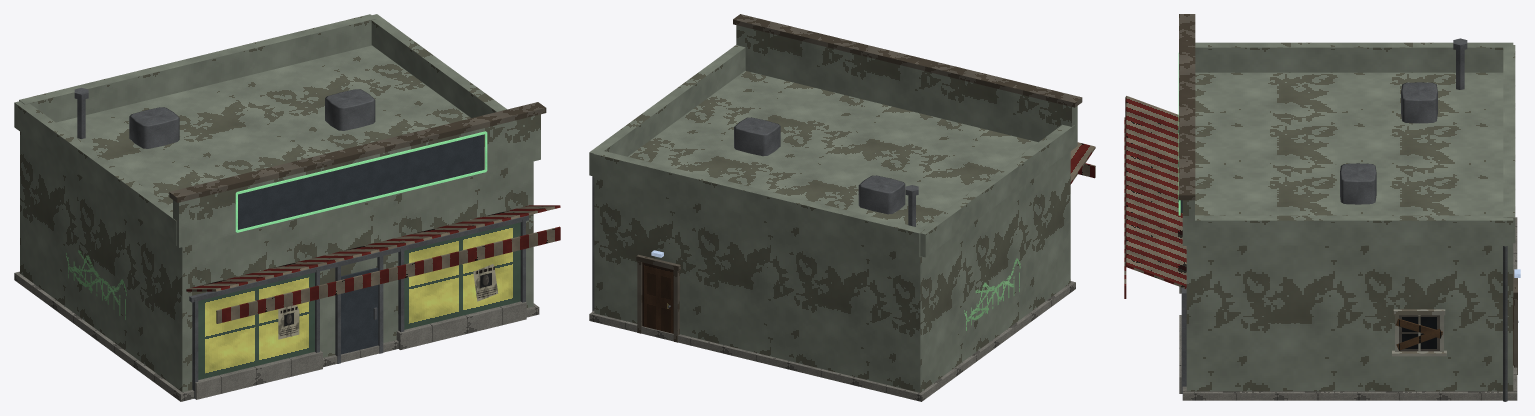
The model's file is town_laundromat.glb.
3 renders of one model, left to right at view 1: azimuth 30°, elevation 25°; view 2: azimuth 150°, elevation 25°; view 3: azimuth 270°, elevation 25°, orthographic. The views are drawn at different scales.
Parts seen in each view (by area): view 1: detail, shell-col; view 2: shell-col, detail; view 3: shell-col, detail.
Boxes of the visible parts, x1,y1,x2,y2 form: detail: (14, 14, 560, 399); shell-col: (14, 45, 539, 401); shell-col: (589, 70, 1075, 401); detail: (589, 14, 1095, 342); shell-col: (1182, 72, 1517, 400); detail: (1124, 14, 1520, 401).
Size of what is drawn, in the model's own units: 10.5 by 5.62 by 9.7.
Materials: 16 (16 with a texture image).
